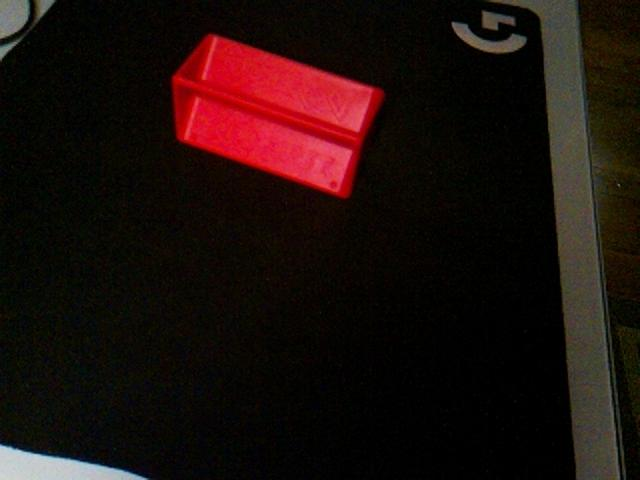red: (170, 31, 386, 200)
